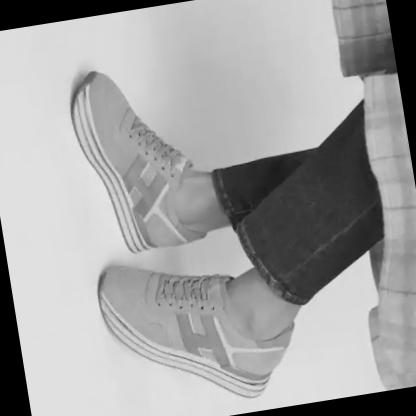ankle: (246, 339, 250, 342), (175, 215, 178, 219)
heel: (149, 242, 152, 246), (268, 372, 271, 374)
left_foot: (94, 239, 302, 416)
pinky: (117, 311, 121, 315), (108, 81, 111, 85)
right_foot: (65, 62, 189, 261)
toe: (125, 268, 129, 272), (91, 102, 94, 106)
